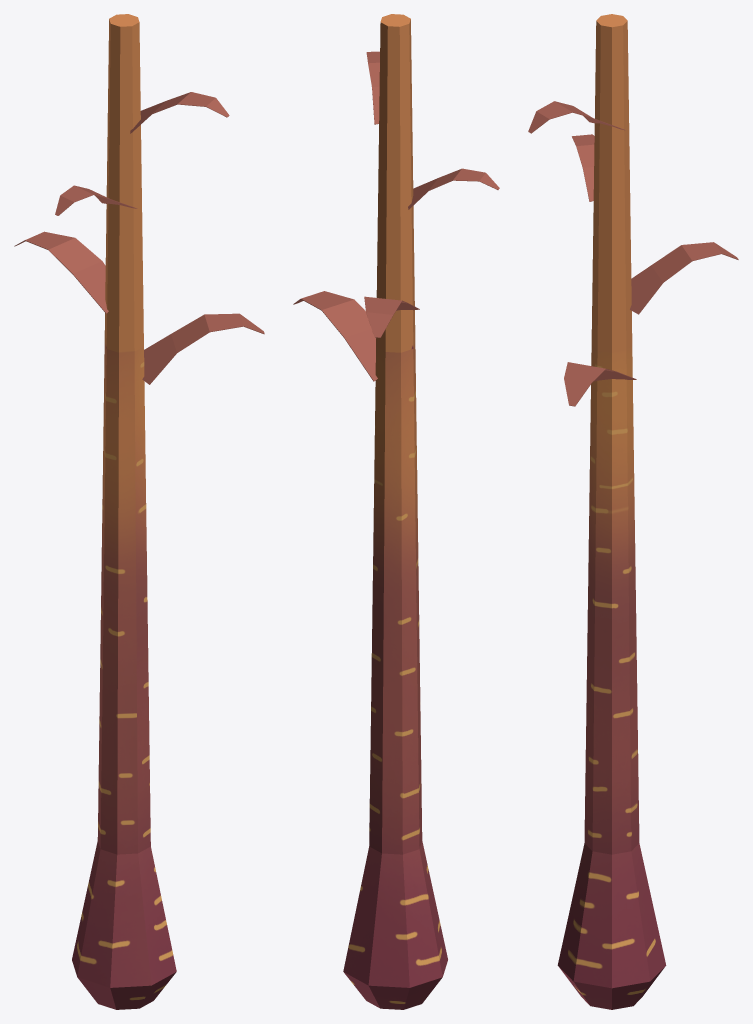
File: palmito_small.fbx
The picture shows the model from 3 angles, left to right: view 1: azimuth 30°, elevation 25°; view 2: azimuth 150°, elevation 25°; view 3: azimuth 270°, elevation 25°; orthographic projection.
Parts seen in each view (by area): view 1: Cylinder.010; view 2: Cylinder.010; view 3: Cylinder.010.
Part boxes in pixels (x1,y1,x2,y2): Cylinder.010: [14, 14, 264, 1009]; Cylinder.010: [293, 14, 499, 1009]; Cylinder.010: [528, 14, 738, 1009].
Size of the model in its own units: 48.65 by 219 by 42.89.
